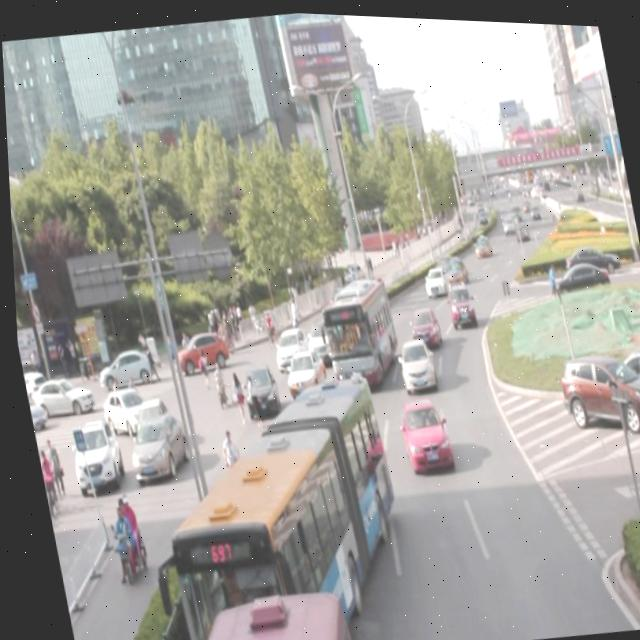car: (391, 390, 451, 473), (279, 375, 339, 449), (231, 355, 278, 419), (391, 332, 433, 389), (277, 345, 325, 393), (298, 311, 342, 363), (265, 320, 308, 373), (403, 302, 439, 345), (442, 277, 473, 324), (418, 261, 443, 293), (440, 253, 466, 283)
van: (141, 365, 409, 640), (175, 578, 344, 640), (314, 271, 398, 382)
